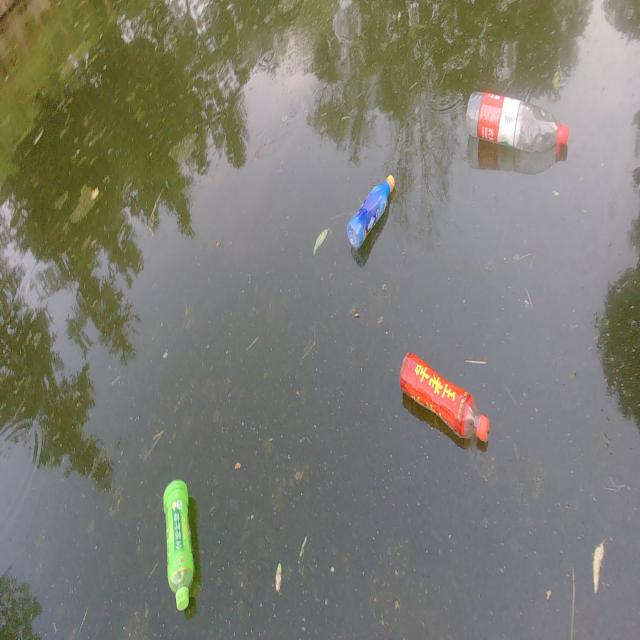Bottle: (396, 346, 491, 444), (464, 83, 572, 166), (158, 475, 198, 614), (343, 173, 397, 251)
